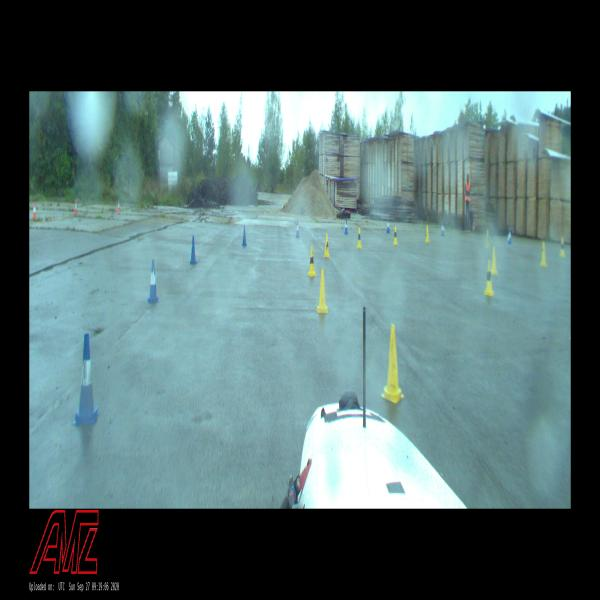blue_cone: (74, 334, 100, 424), (148, 260, 158, 302), (190, 236, 197, 264), (242, 225, 247, 247), (296, 220, 300, 238), (508, 229, 512, 244), (441, 223, 445, 236), (345, 219, 348, 234), (387, 219, 390, 232)
orange_cone: (73, 200, 78, 214), (32, 203, 36, 218), (117, 200, 120, 213)
yellow_cone: (382, 325, 406, 403), (316, 269, 328, 313), (484, 260, 495, 296), (307, 245, 317, 277), (490, 246, 499, 274), (540, 241, 547, 266), (324, 234, 331, 258), (357, 228, 362, 248), (393, 226, 398, 245), (560, 238, 565, 256), (485, 229, 490, 247), (425, 225, 430, 243)
